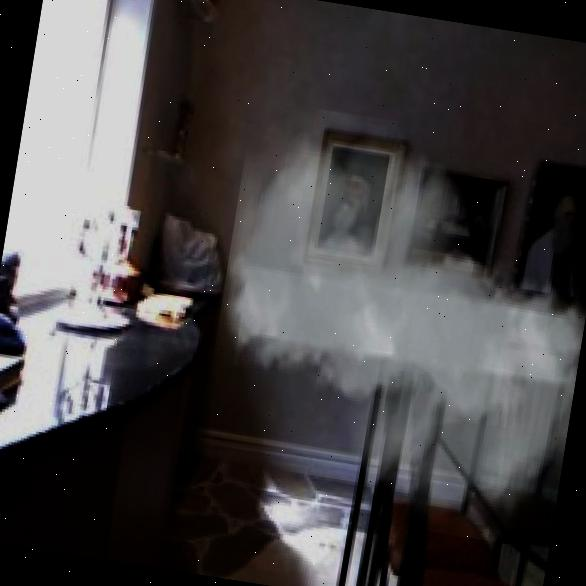smoke: (191, 99, 586, 551)
